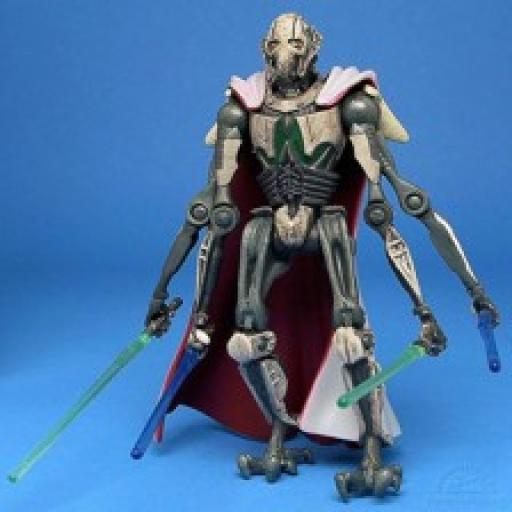lightsaber: (6, 295, 183, 481), (130, 329, 208, 459), (336, 334, 445, 410), (476, 306, 502, 373)
